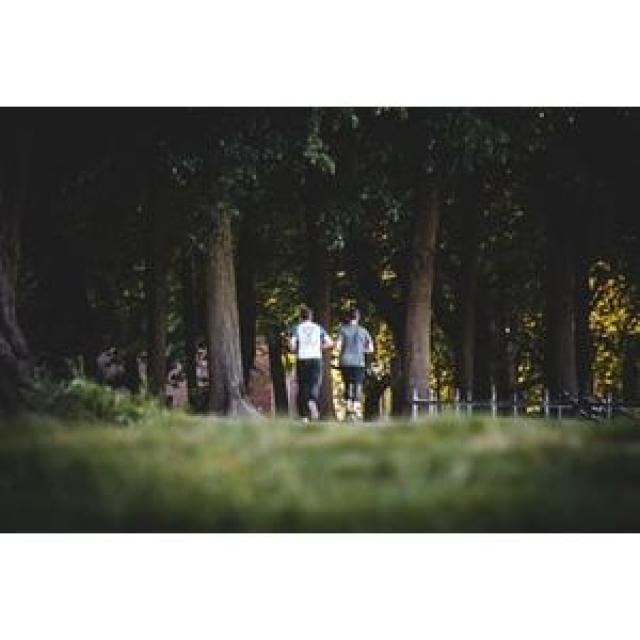nonfall: (272, 299, 341, 428), (334, 307, 378, 425)
